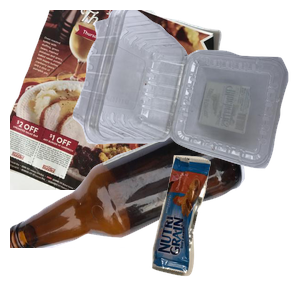glass: (10, 120, 247, 300)
paper: (10, 10, 224, 190)
plastic: (70, 10, 300, 171)
trash: (149, 152, 300, 300)
